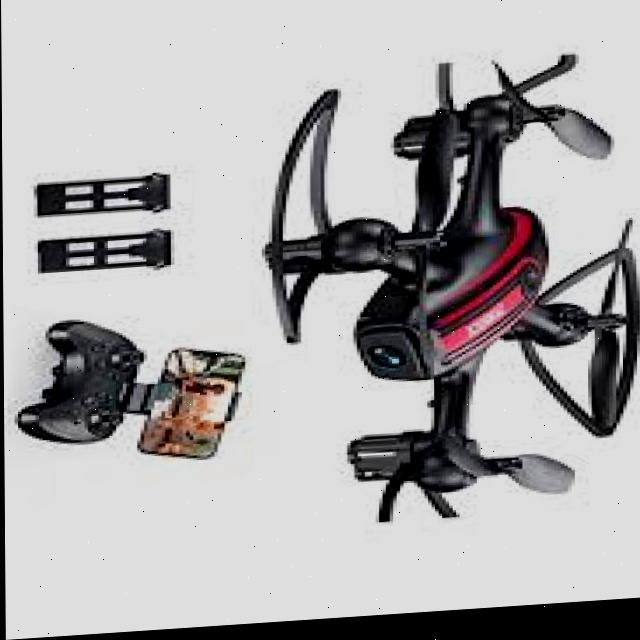drone: (242, 22, 640, 556)
